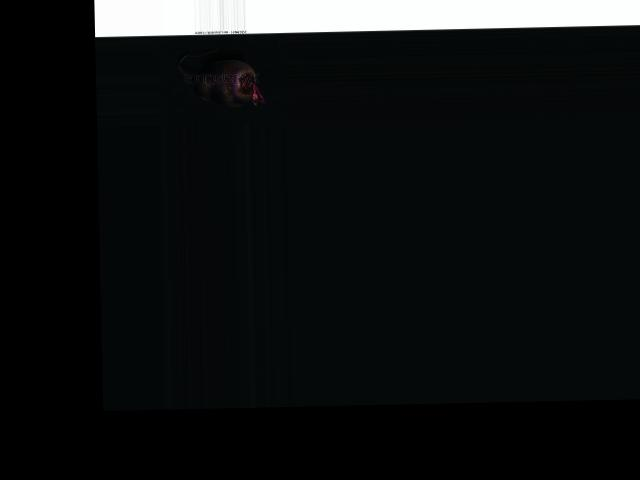beet: (178, 48, 267, 108)
